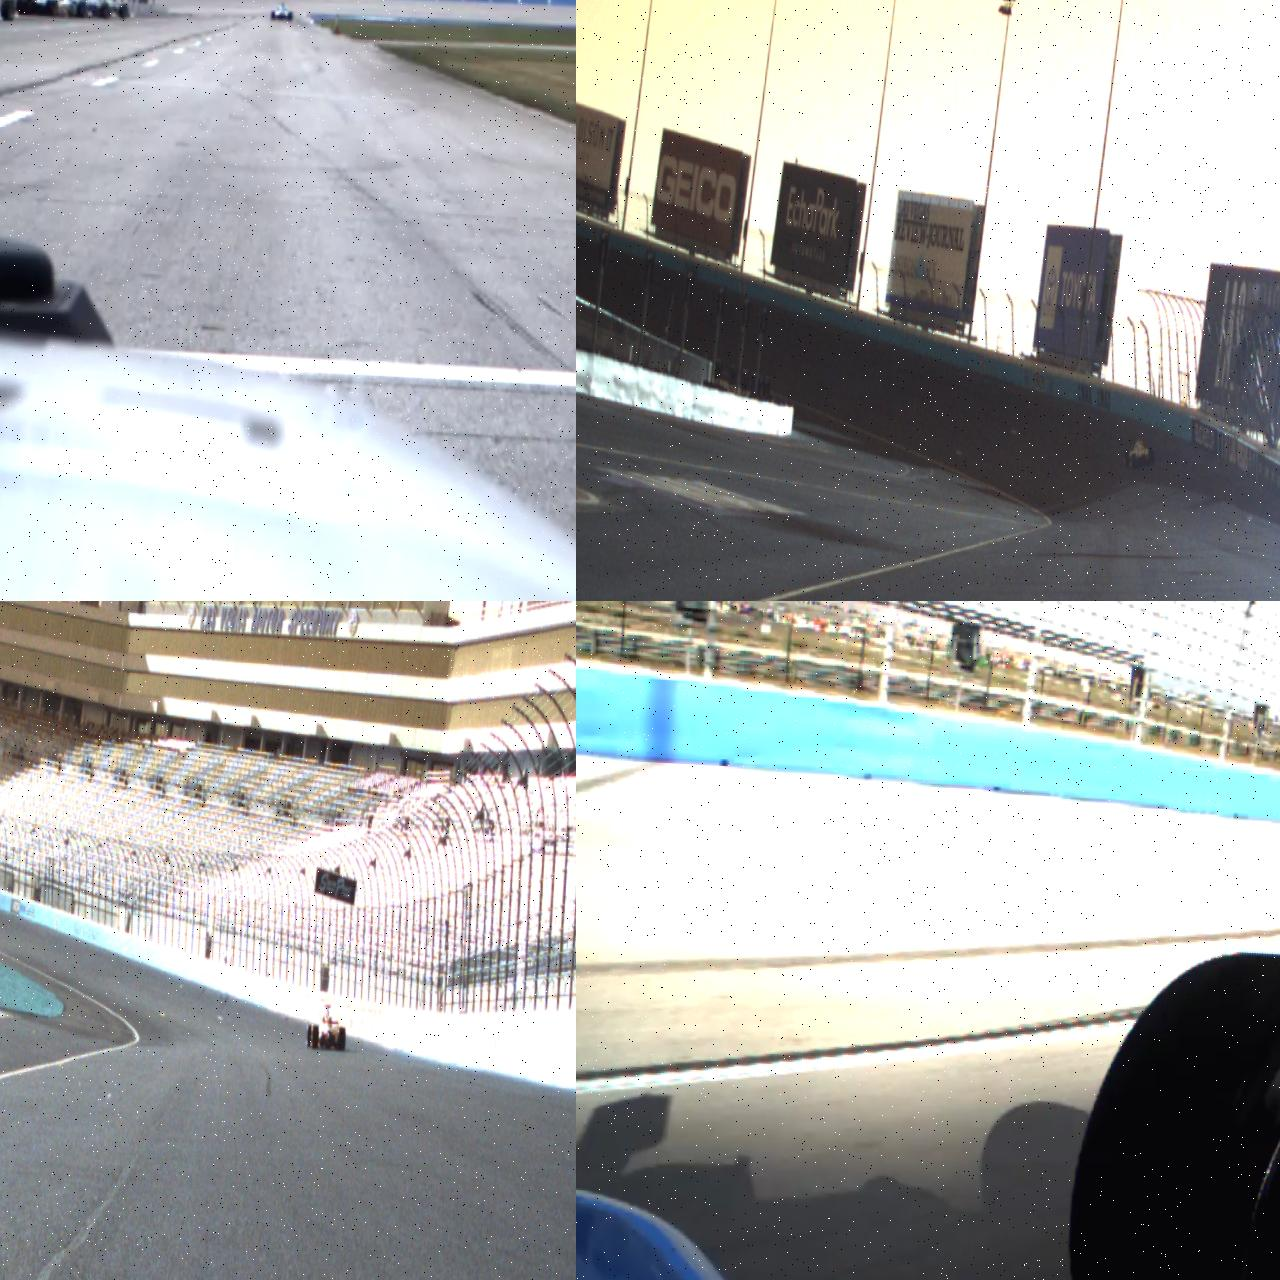AV: (305, 1002, 347, 1051), (1123, 435, 1155, 471), (270, 1, 293, 21)
Wheel: (1058, 942, 1280, 1280), (1, 0, 15, 19), (45, 0, 57, 16), (311, 1024, 318, 1049), (338, 1027, 345, 1050), (76, 0, 86, 16), (101, 2, 110, 18), (118, 2, 128, 18), (306, 1024, 312, 1047), (1130, 452, 1136, 470), (1124, 451, 1130, 467), (1149, 448, 1155, 463), (287, 11, 293, 21), (270, 9, 275, 20)
